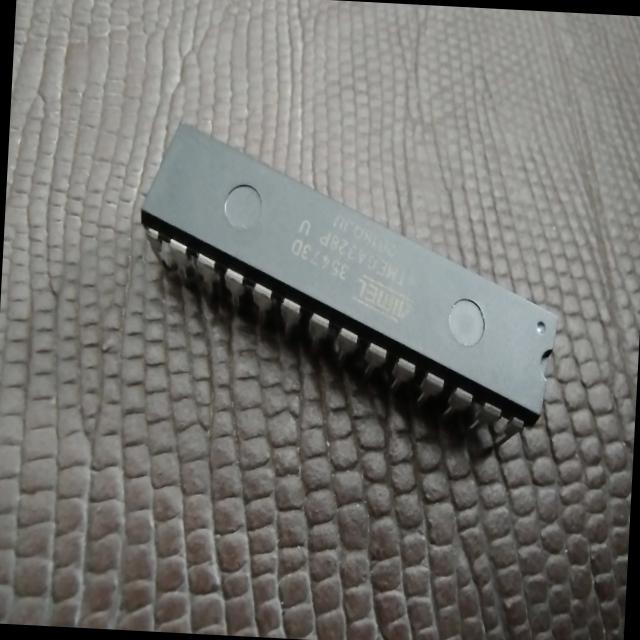atmega: (128, 116, 570, 437)
